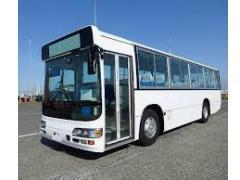bus: (37, 25, 219, 155)
